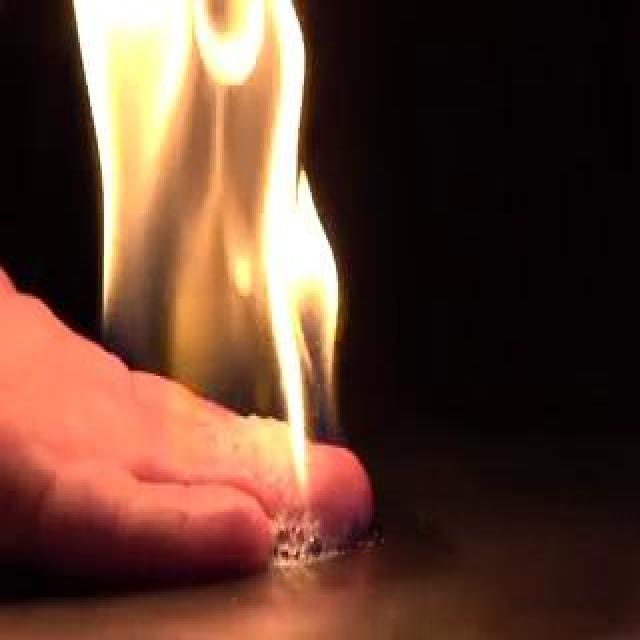Fire: (63, 3, 331, 488)
